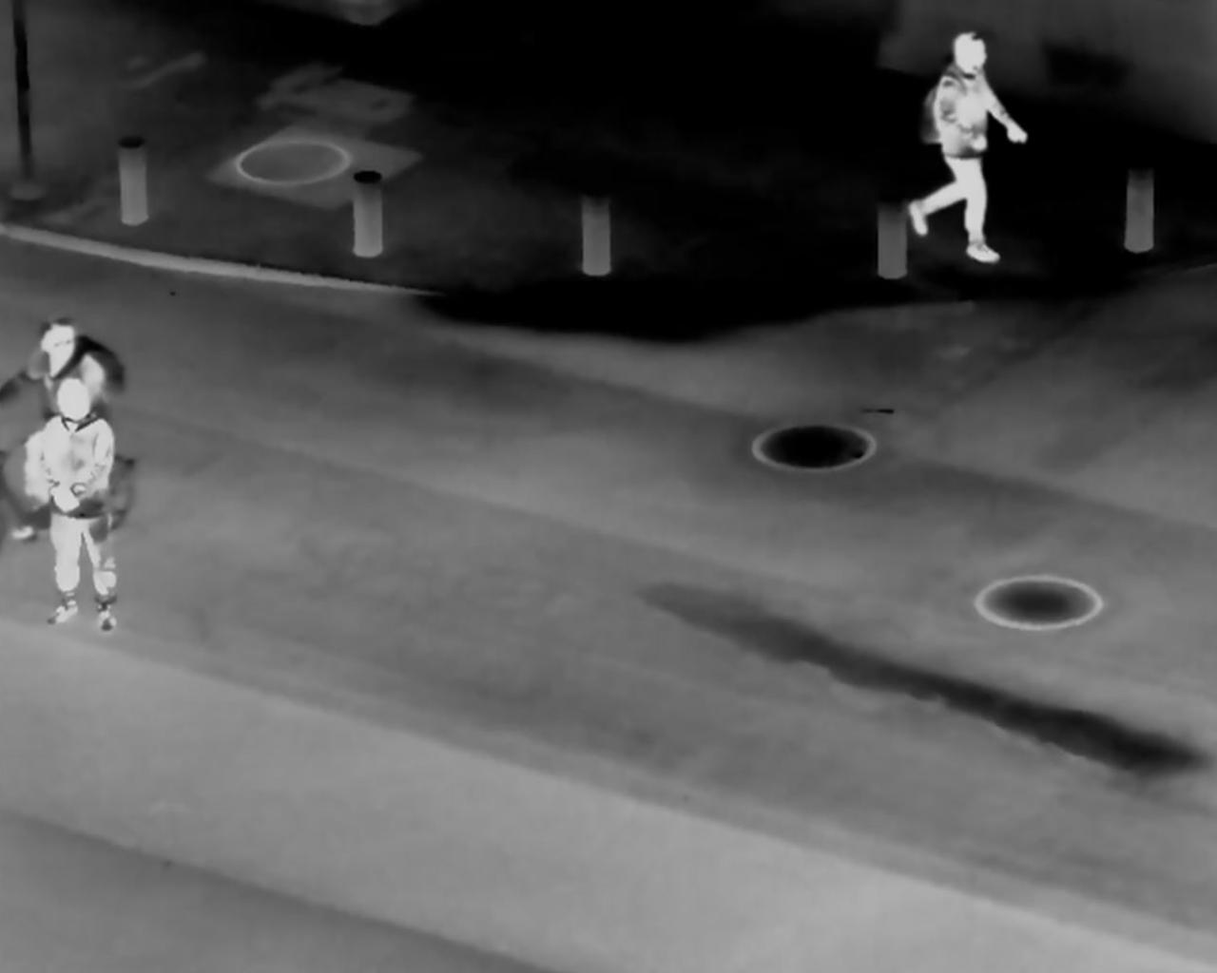person: (17, 378, 139, 622), (910, 29, 1027, 272), (13, 308, 123, 544)
